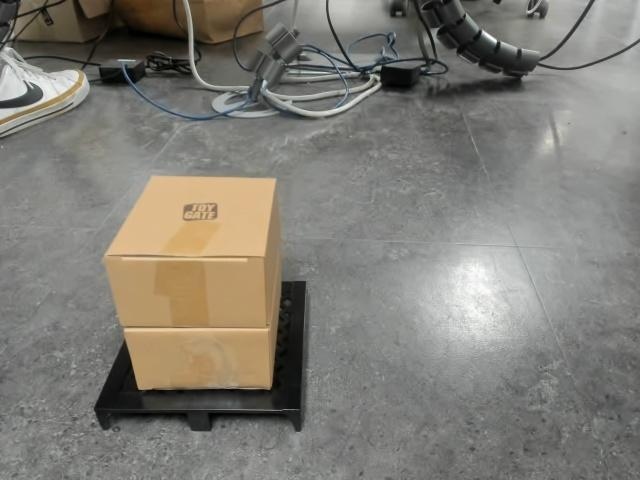box: (93, 174, 311, 435)
